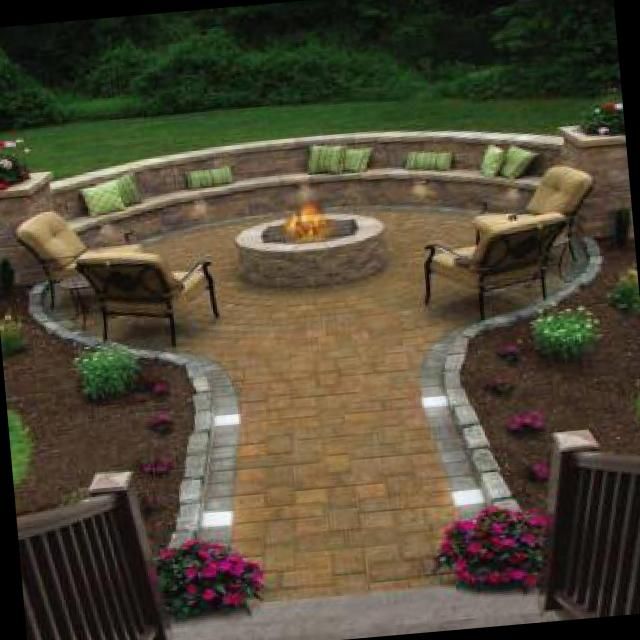Smoke: (280, 170, 334, 238)
